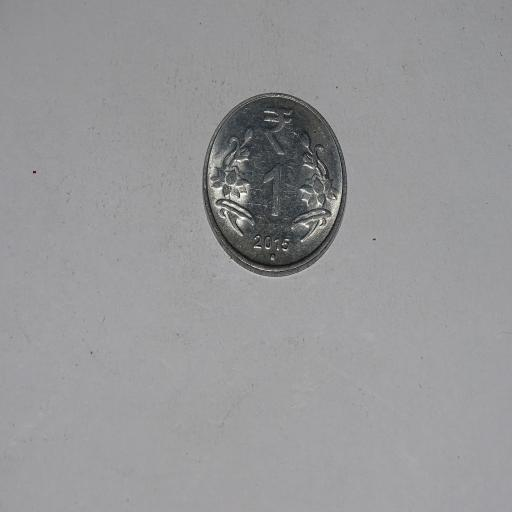rupee1: (202, 92, 347, 275)
